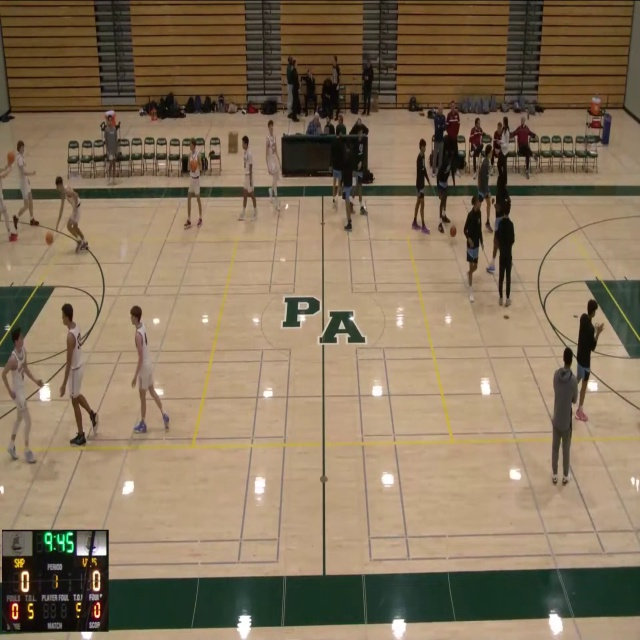Basketball: (7, 151, 15, 164), (45, 231, 53, 244), (189, 160, 197, 171), (450, 226, 456, 237)
